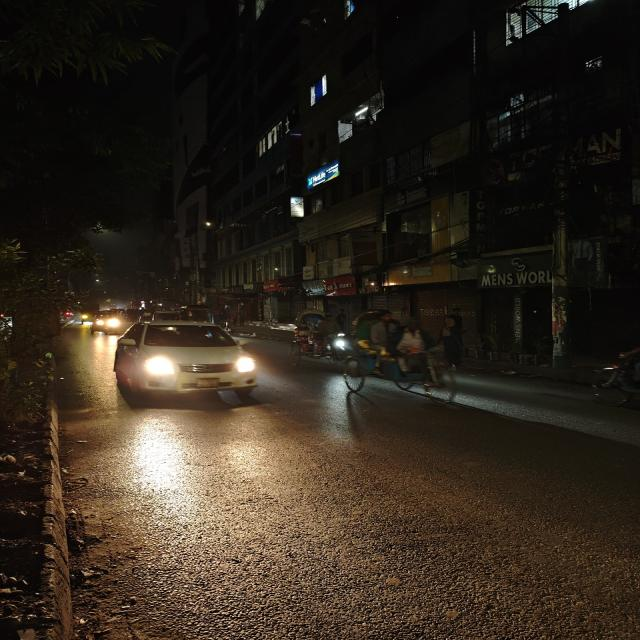car: (112, 320, 277, 414)
cng: (90, 311, 119, 336)
pedestrian: (238, 309, 250, 328), (229, 310, 240, 327)
rickshaw: (347, 308, 451, 415), (285, 304, 349, 366)
truck: (78, 301, 100, 322)
